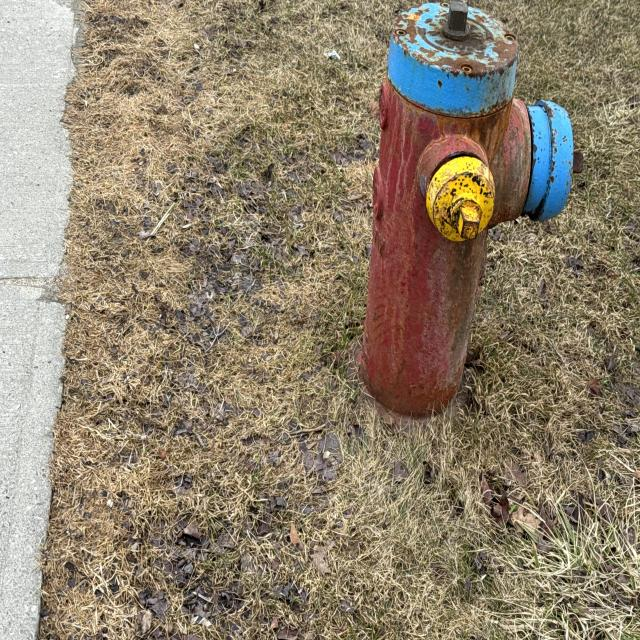Fire hydrant: (341, 0, 585, 443)
